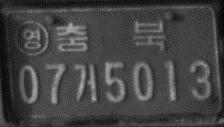0: (132, 61, 155, 103), (17, 64, 39, 105)
1: (159, 59, 182, 102)
3: (189, 59, 212, 102)
5: (103, 61, 128, 103)
7: (43, 62, 66, 104)
거: (73, 62, 99, 103)
영: (14, 20, 49, 57)
충북_D: (56, 19, 165, 54)
